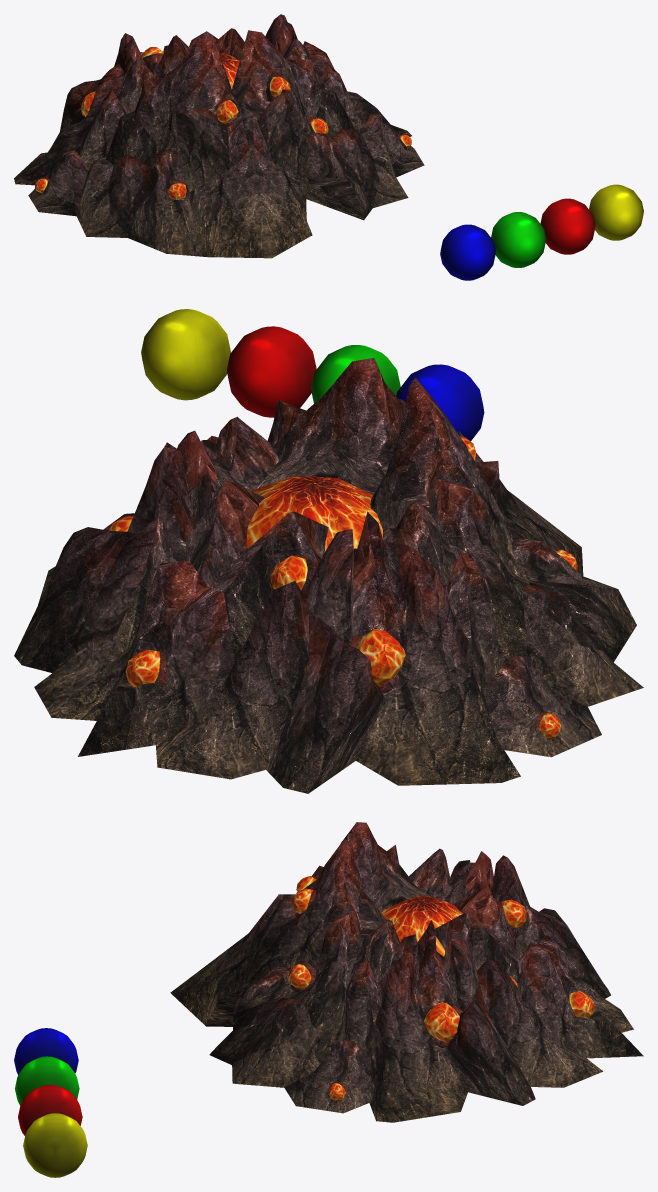
Rendered from ball.FBX.
3 views of the same model, one above another, from view 1: azimuth 30°, elevation 25°; view 2: azimuth 150°, elevation 25°; view 3: azimuth 270°, elevation 25° (orthographic). The views are drawn at different scales.
Parts seen in each view (by area): view 1: DrawCall_0150, Sphere028, Sphere029, Sphere030, Sphere031, DrawCall_0155; view 2: DrawCall_0150, Sphere031, Sphere030, 火山内, DrawCall_0155, Sphere028, Sphere029; view 3: DrawCall_0150, DrawCall_0155, Sphere031, 火山内, Sphere030, Sphere029, Sphere028.
Part boxes in pixels (left/top/right/bottom): DrawCall_0150: left=14, top=14, right=424, bottom=258; Sphere028: left=440, top=224, right=495, bottom=280; Sphere029: left=491, top=212, right=546, bottom=267; Sphere030: left=540, top=198, right=595, bottom=254; Sphere031: left=589, top=184, right=643, bottom=240; DrawCall_0155: left=35, top=47, right=411, bottom=199; DrawCall_0150: left=14, top=358, right=643, bottom=793; Sphere031: left=141, top=309, right=230, bottom=400; Sphere030: left=227, top=326, right=316, bottom=417; 火山内: left=246, top=476, right=382, bottom=551; DrawCall_0155: left=108, top=436, right=577, bottom=739; Sphere028: left=396, top=364, right=484, bottom=441; Sphere029: left=311, top=345, right=400, bottom=403; DrawCall_0150: left=170, top=822, right=643, bottom=1122; DrawCall_0155: left=288, top=876, right=594, bottom=1101; Sphere031: left=23, top=1113, right=87, bottom=1177; 火山内: left=380, top=895, right=462, bottom=956; Sphere030: left=18, top=1084, right=82, bottom=1135; Sphere029: left=15, top=1056, right=79, bottom=1105; Sphere028: left=14, top=1028, right=78, bottom=1074.
Bounding box in the file's own units: 66.22 × 25.07 × 71.25.
Materials: 6 (6 with a texture image).
